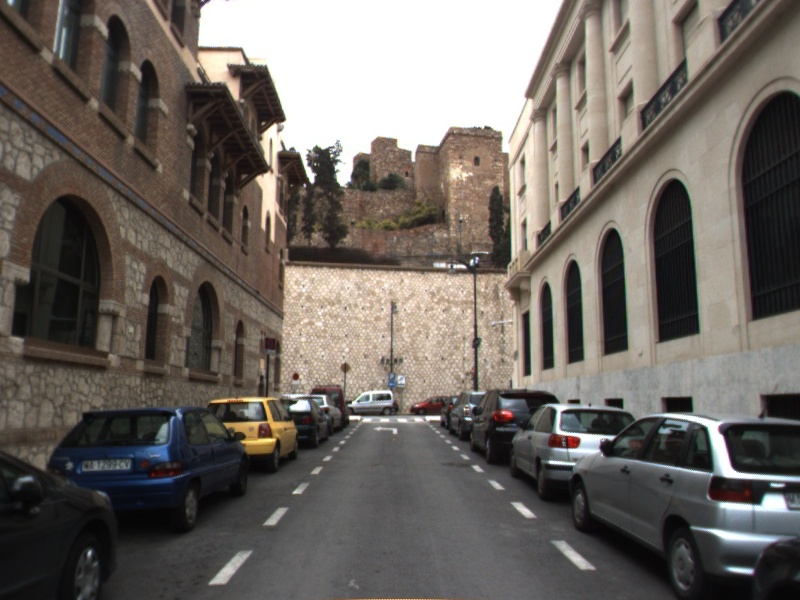LEFT: (372, 424, 399, 436)
